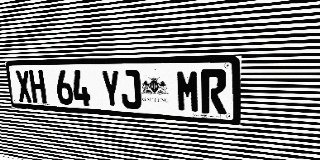4: (71, 70, 91, 106)
6: (55, 70, 74, 105)
H: (29, 70, 47, 104)
J: (120, 70, 142, 109)
M: (176, 69, 200, 113)
R: (201, 69, 227, 115)
X: (15, 70, 33, 103)
Y: (100, 70, 122, 108)
